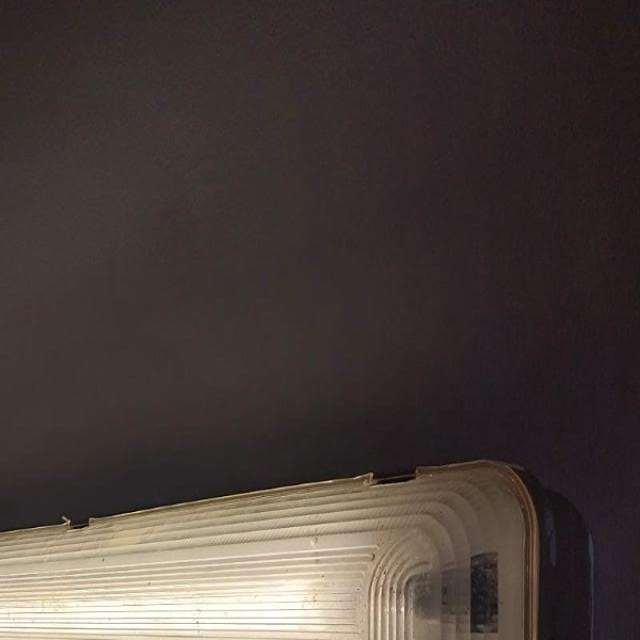fluorescent tube: (0, 437, 603, 639)
